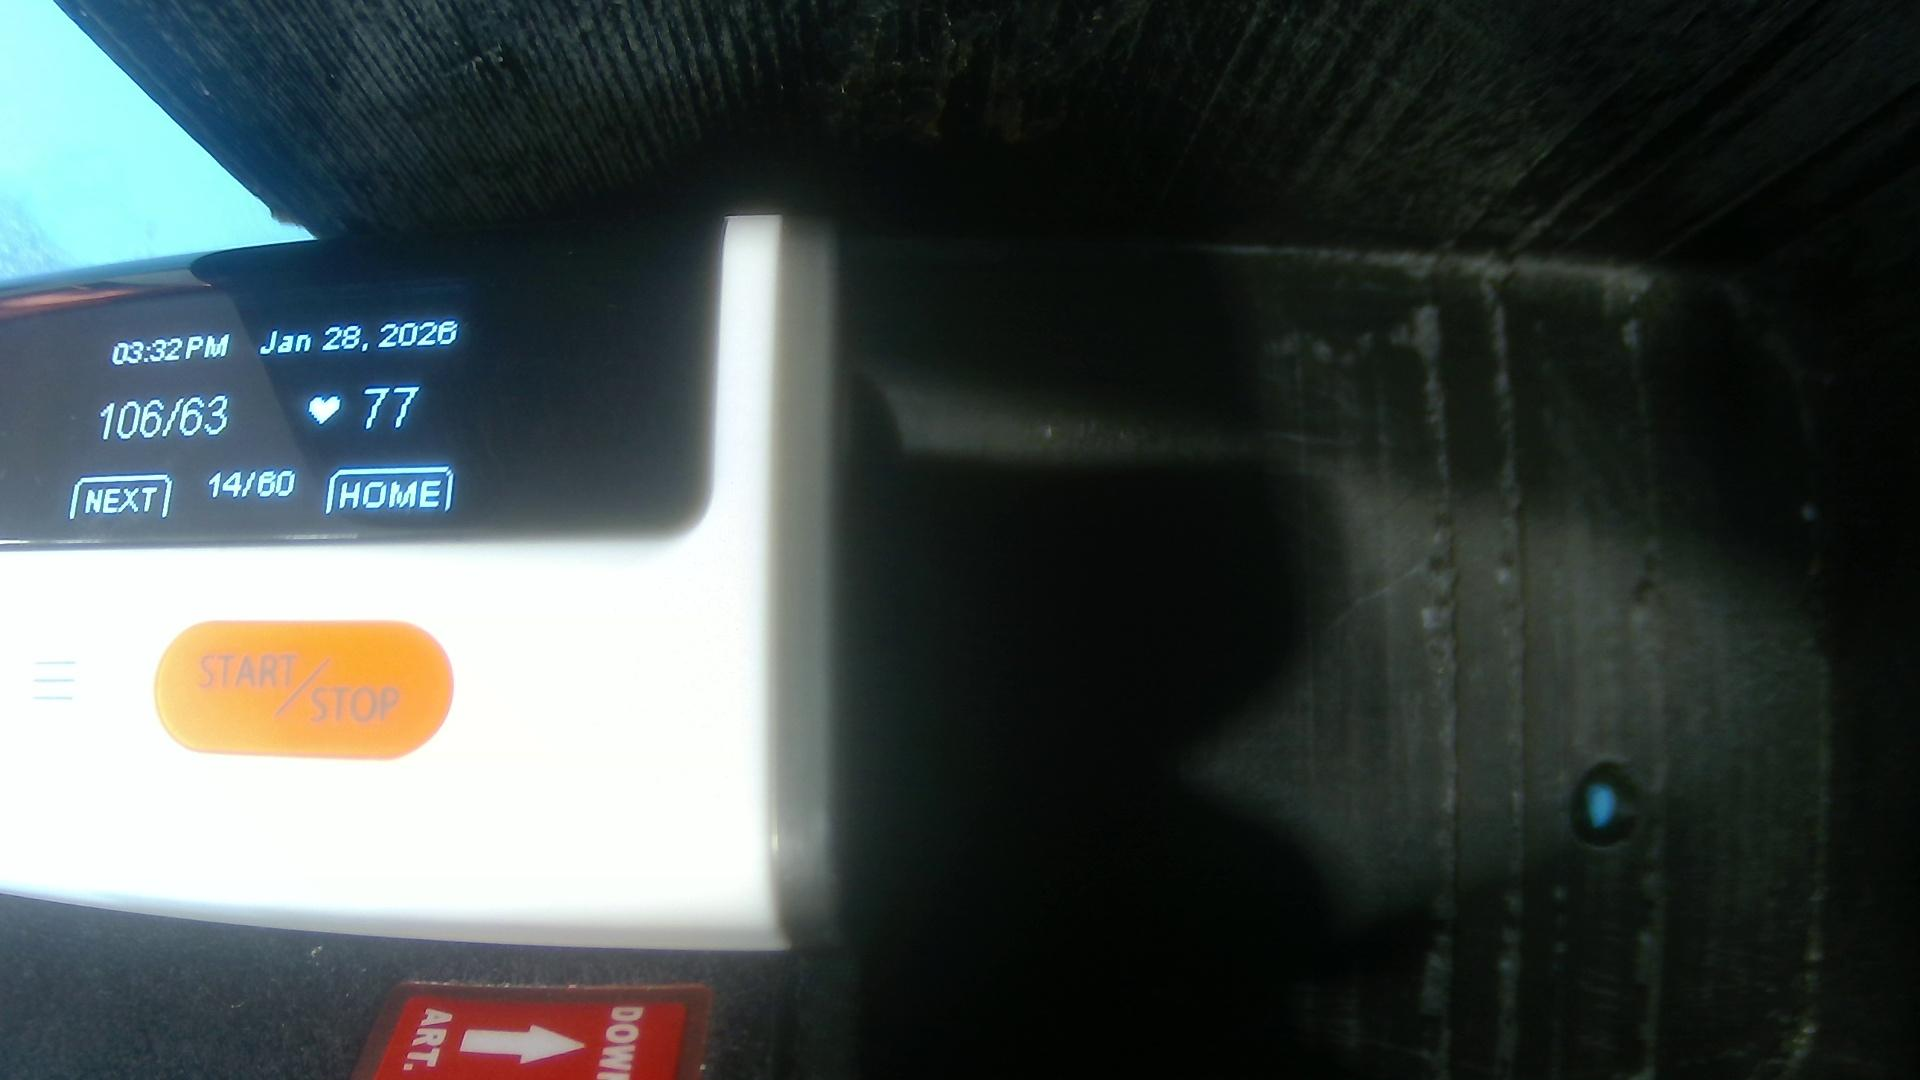DISPLAY: (4, 212, 719, 545)
